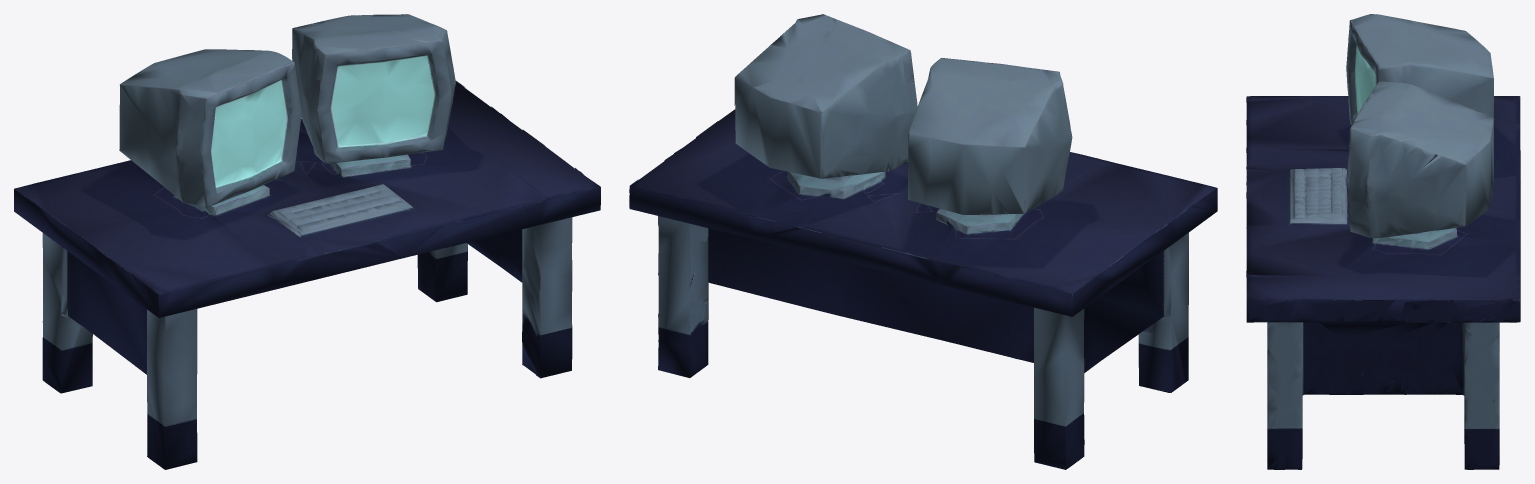
File: desk.glb
The picture shows the model from 3 angles, left to right: view 1: azimuth 30°, elevation 25°; view 2: azimuth 150°, elevation 25°; view 3: azimuth 270°, elevation 25°; orthographic projection. The views are drawn at different scales.
Visible parts, largest first — view 1: Mesh_0; view 2: Mesh_0; view 3: Mesh_0.
Part boxes in pixels (bbox=[...]): Mesh_0: bbox=[14, 14, 600, 469]; Mesh_0: bbox=[629, 14, 1217, 469]; Mesh_0: bbox=[1246, 14, 1520, 469].
Size of the model in its own units: 1.91 by 1.32 by 1.08.
1 material, 1 textured.
